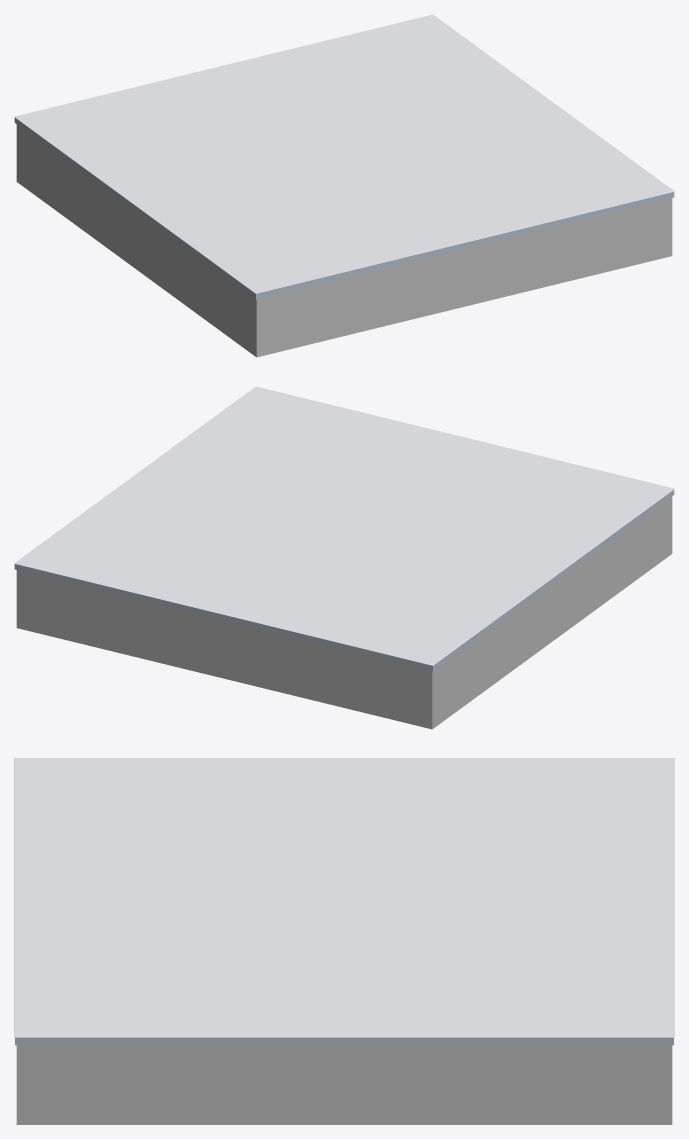
The model's file is epoxy.glb.
3 renders of one model, top to bottom at view 1: azimuth 30°, elevation 25°; view 2: azimuth 150°, elevation 25°; view 3: azimuth 270°, elevation 25°, orthographic. The views are drawn at different scales.
Visible parts, largest first — view 1: topcoat, substrate, body; view 2: topcoat, substrate, body; view 3: topcoat, substrate, body.
Part boxes in pixels (left/top/right/bottom): topcoat: left=14, top=14, right=674, bottom=293; substrate: left=16, top=124, right=672, bottom=357; body: left=14, top=118, right=674, bottom=299; topcoat: left=14, top=386, right=674, bottom=665; substrate: left=16, top=496, right=672, bottom=729; body: left=14, top=490, right=674, bottom=671; topcoat: left=14, top=758, right=674, bottom=1037; substrate: left=16, top=1045, right=672, bottom=1124; body: left=15, top=1037, right=673, bottom=1045.
Size of the model in its own units: 0.3 by 0.0444 by 0.3.
